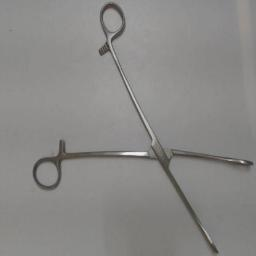Sponge Forceps: (29, 1, 255, 255)
